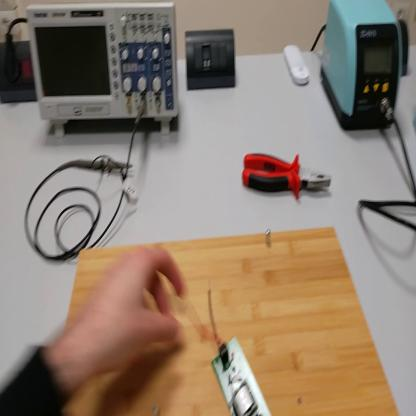hand: (73, 246, 186, 378)
high voltage board: (180, 287, 271, 415)
oscilloscope: (26, 5, 183, 141)
oscilloscope probe tip: (75, 158, 134, 176)
pliers: (242, 150, 333, 201)
socket: (2, 41, 40, 109), (399, 20, 410, 78)
welder station: (319, 2, 402, 132)
working area: (65, 227, 399, 416)
